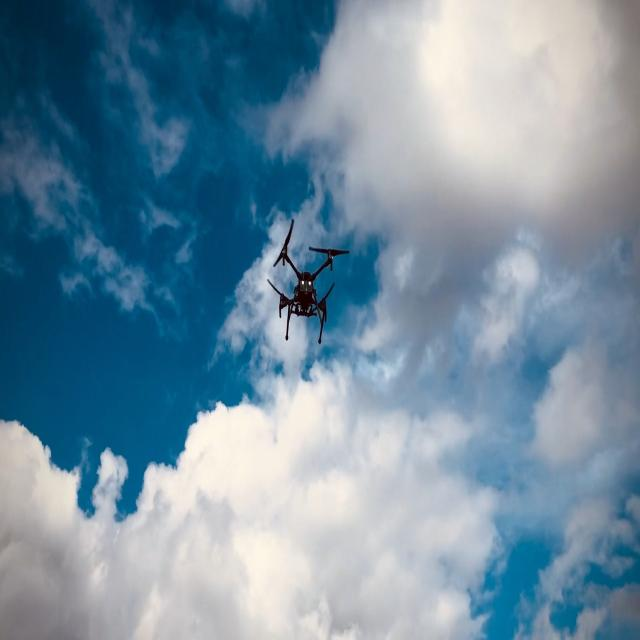drone: (266, 218, 350, 344)
